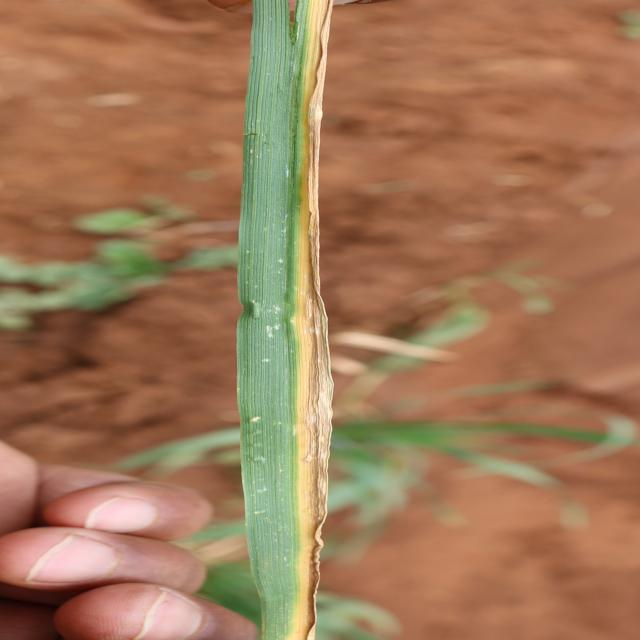Septoria: (232, 1, 337, 638)
